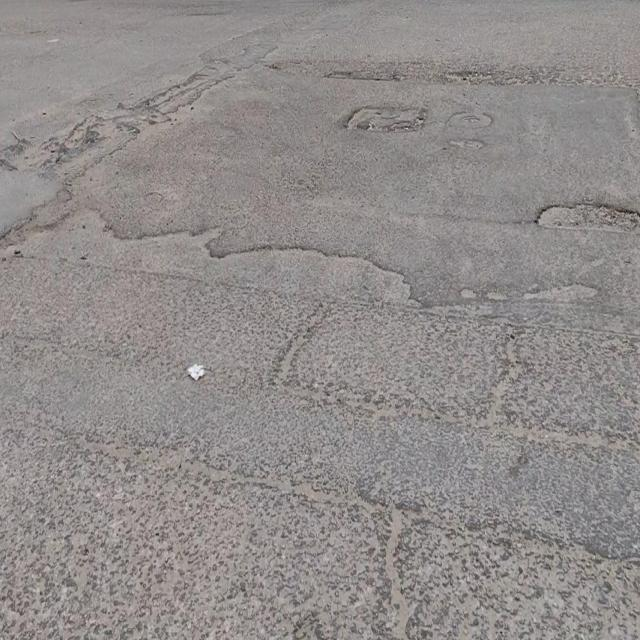Potholes: (536, 195, 640, 234), (345, 102, 429, 136)
